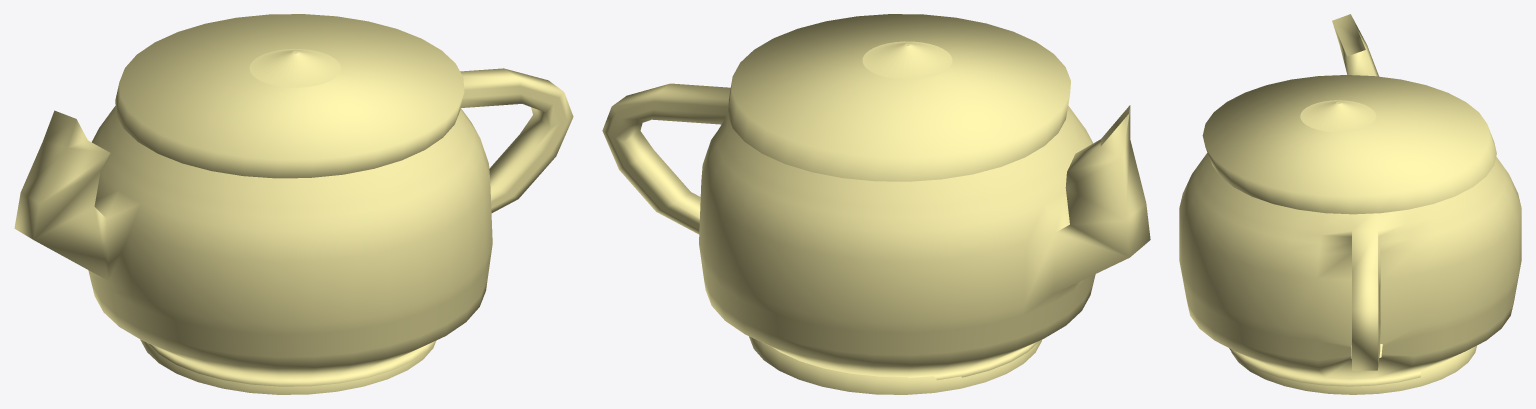
Rendered from Reflective1.glb.
3 views of the same model, side by side, from view 1: azimuth 30°, elevation 25°; view 2: azimuth 150°, elevation 25°; view 3: azimuth 270°, elevation 25° (orthographic). The views are drawn at different scales.
Parts seen in each view (by area): view 1: Circle, Circle.001, Circle.002; view 2: Circle, Circle.001, Circle.002; view 3: Circle, Circle.001, Circle.002.
Part boxes in pixels (box(x1,y1,x2,y2)): Circle: box(14, 68, 573, 386); Circle.001: box(115, 14, 464, 178); Circle.002: box(140, 339, 435, 394); Circle: box(602, 83, 1150, 380); Circle.001: box(727, 14, 1070, 181); Circle.002: box(749, 336, 1041, 394); Circle: box(1179, 14, 1521, 386); Circle.001: box(1202, 75, 1496, 214); Circle.002: box(1231, 344, 1476, 394).
Bounding box in the file's own units: 6.05 × 3.07 × 3.99.
